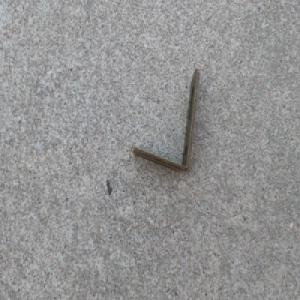MetalPart: (130, 67, 201, 175)
